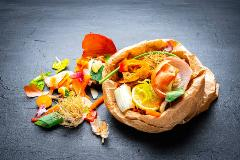organic: (149, 58, 193, 98), (133, 84, 170, 114), (60, 96, 92, 122), (112, 84, 137, 108)
